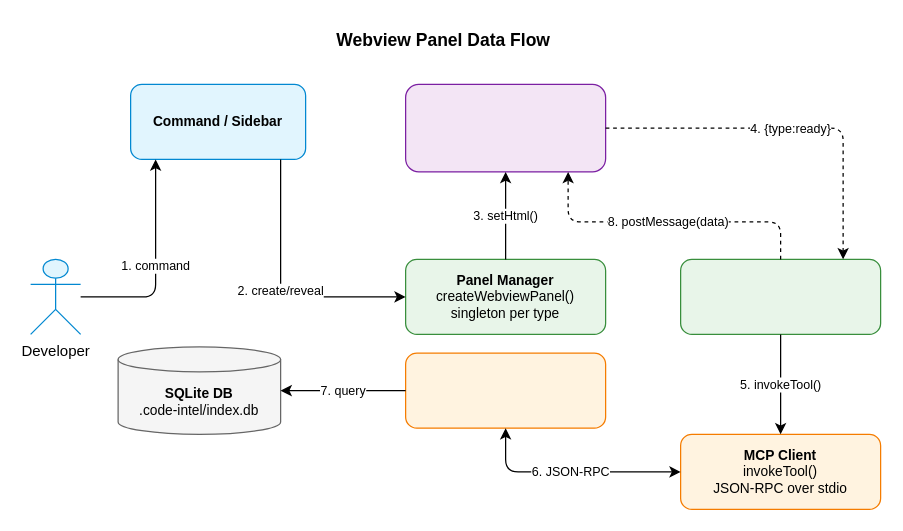
Image size: 903x531. Some labels were removed from this diagram. The shapes that lost their labels are listed below. From the top down, each one's centre as x and y in pixels, then its label:
At point 505,127: "Webview Panel HTML + JS + CSS (Three.js / Chart.js)".
At point 780,296: "Message Handler onDidReceiveMessage".
At point 505,390: "MCP Server (Child Process) 32 Tools".
